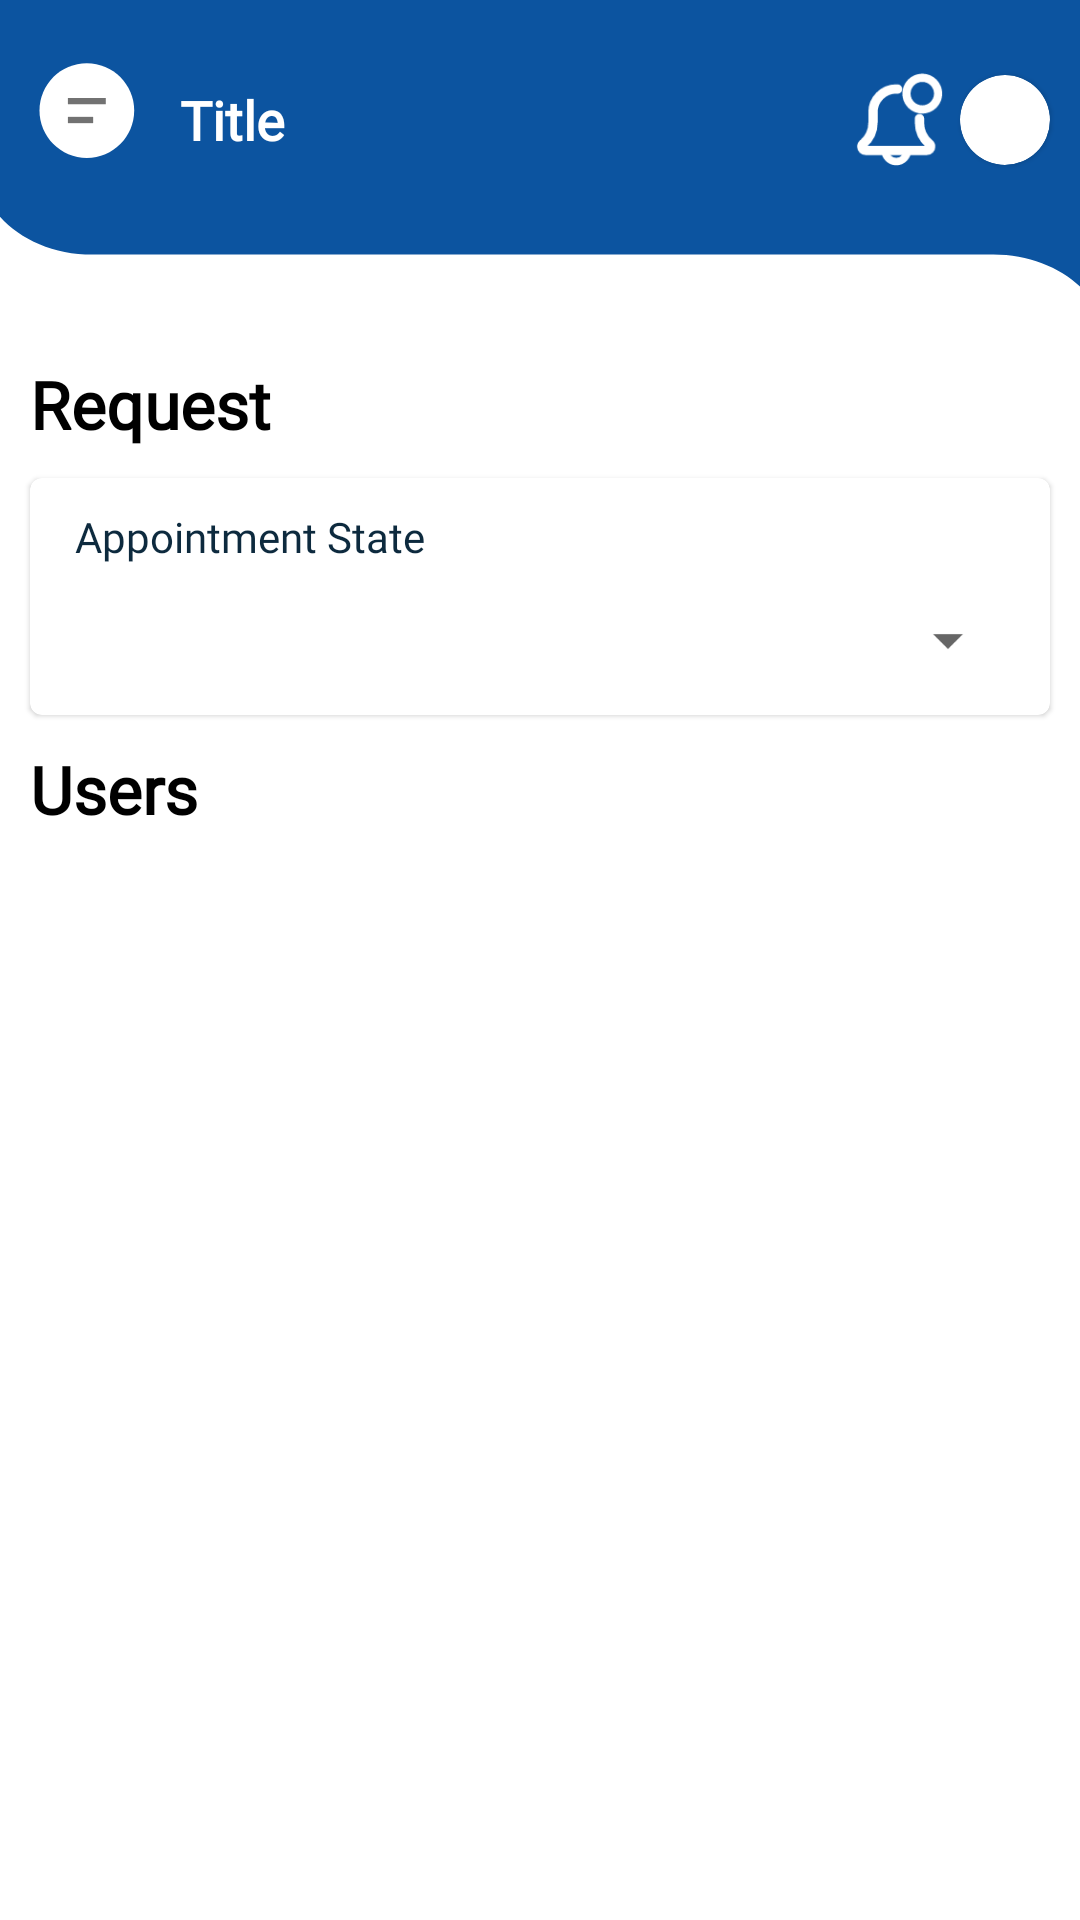

Icon bounding boxes for this 1080 × 1920 phone screenshot, format (x1, y1, x2, y2):
menu: (39, 63, 135, 158)
notification: (857, 73, 943, 166)
